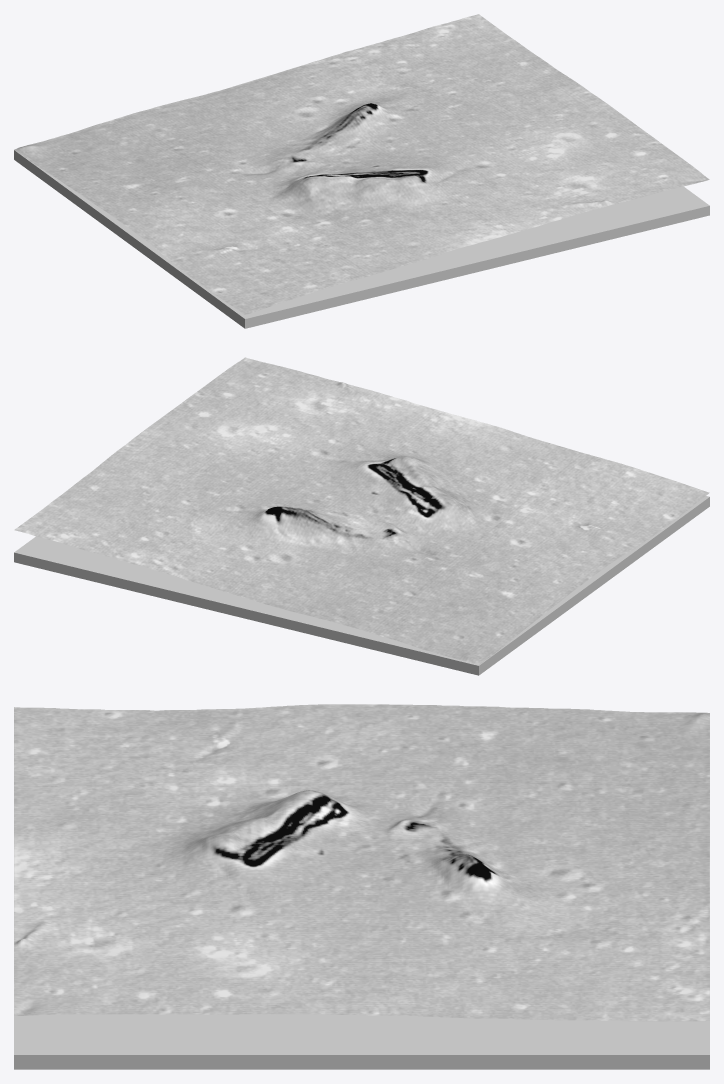
The model's file is smoothed_horizontal_terrain_md.glb.
3 renders of one model, top to bottom at view 1: azimuth 30°, elevation 25°; view 2: azimuth 150°, elevation 25°; view 3: azimuth 270°, elevation 25°, orthographic. The views are drawn at different scales.
Parts seen in each view (by area): view 1: Smoothed_Terrain_XZ_horizontal, Base; view 2: Smoothed_Terrain_XZ_horizontal, Base; view 3: Smoothed_Terrain_XZ_horizontal, Base.
Part boxes in pixels (box(x1,y1,x2,y2)): Smoothed_Terrain_XZ_horizontal: box(14, 14, 709, 314); Base: box(14, 150, 709, 328); Smoothed_Terrain_XZ_horizontal: box(14, 357, 709, 665); Base: box(14, 496, 709, 675); Smoothed_Terrain_XZ_horizontal: box(14, 704, 709, 1021); Base: box(14, 1014, 709, 1069).
Bounding box in the file's own units: 1 × 0.0905 × 0.8612.
2 materials, 1 textured.
